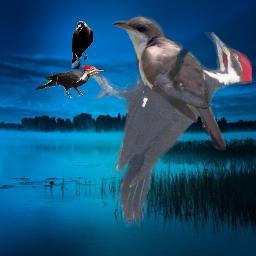Crow: (71, 21, 93, 69)
Cuckoo: (110, 13, 226, 153)
Woodpecker: (88, 32, 256, 227), (35, 65, 106, 99)
